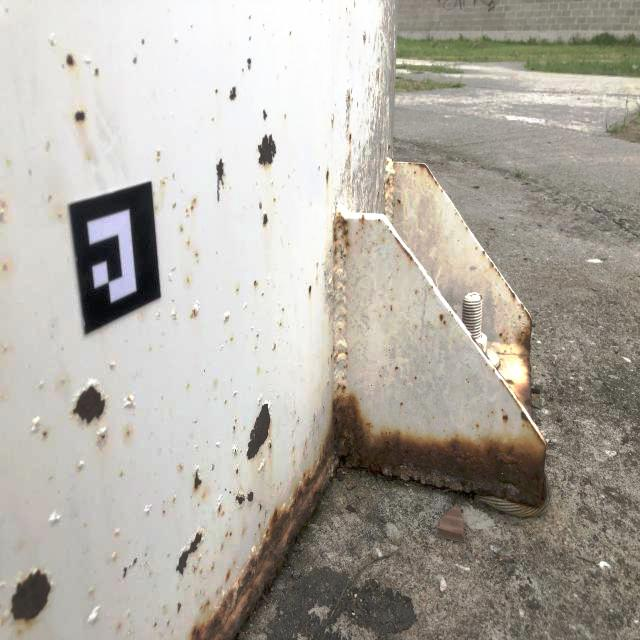Corrosion: (186, 378, 547, 640), (469, 302, 532, 419), (10, 567, 53, 626), (70, 382, 107, 427), (246, 402, 272, 461), (176, 531, 203, 578), (388, 225, 418, 265), (489, 259, 516, 301), (407, 162, 444, 192), (332, 211, 349, 265), (256, 133, 279, 169), (217, 157, 225, 202), (331, 346, 349, 359), (193, 467, 202, 493), (346, 85, 354, 108), (383, 177, 391, 199), (65, 53, 75, 69), (74, 111, 86, 122), (96, 433, 106, 446), (229, 87, 237, 102), (236, 493, 245, 505), (358, 214, 365, 229), (245, 55, 252, 69), (226, 568, 232, 584), (191, 306, 199, 318), (262, 213, 269, 226), (190, 198, 197, 211), (262, 108, 268, 121), (247, 491, 254, 502), (132, 557, 138, 568), (177, 602, 182, 615), (122, 566, 127, 579), (502, 414, 508, 424), (387, 143, 391, 156), (439, 315, 445, 323), (217, 501, 221, 513), (449, 310, 454, 318), (331, 273, 334, 286), (326, 170, 329, 182), (348, 133, 352, 142), (386, 157, 390, 166), (395, 199, 401, 205), (308, 285, 312, 294), (342, 363, 348, 369), (258, 502, 262, 511), (95, 67, 99, 76), (272, 343, 276, 352), (126, 396, 132, 402), (193, 566, 198, 573), (469, 293, 477, 297), (253, 280, 258, 286), (41, 432, 46, 438), (363, 34, 366, 43), (125, 431, 130, 436), (503, 337, 507, 343), (269, 442, 272, 450), (132, 56, 136, 62), (156, 150, 159, 158), (211, 463, 214, 470), (211, 564, 214, 571), (377, 219, 381, 224), (499, 332, 503, 337), (278, 321, 282, 326), (377, 71, 379, 80), (479, 294, 482, 300), (492, 367, 495, 373), (166, 622, 169, 628), (141, 38, 144, 44), (443, 320, 446, 325), (483, 250, 486, 255), (225, 532, 228, 537), (236, 468, 238, 475), (480, 343, 483, 347), (501, 408, 504, 412), (476, 423, 479, 427), (229, 532, 232, 536), (415, 376, 418, 380), (400, 403, 404, 406), (215, 88, 218, 92), (431, 286, 434, 289), (461, 219, 463, 223), (491, 410, 493, 414), (485, 363, 487, 366), (466, 378, 468, 381), (487, 415, 489, 418), (455, 212, 457, 215), (476, 247, 478, 249), (468, 380, 469, 384)
